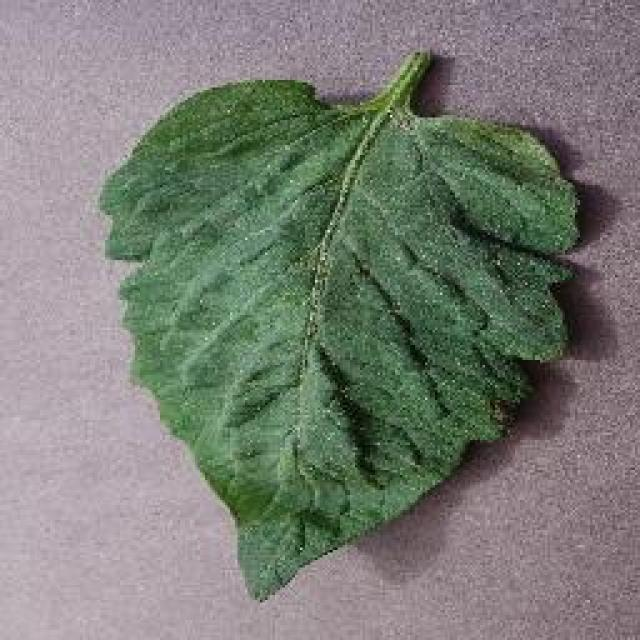Tomato___Target_Spot: (100, 52, 575, 600)
